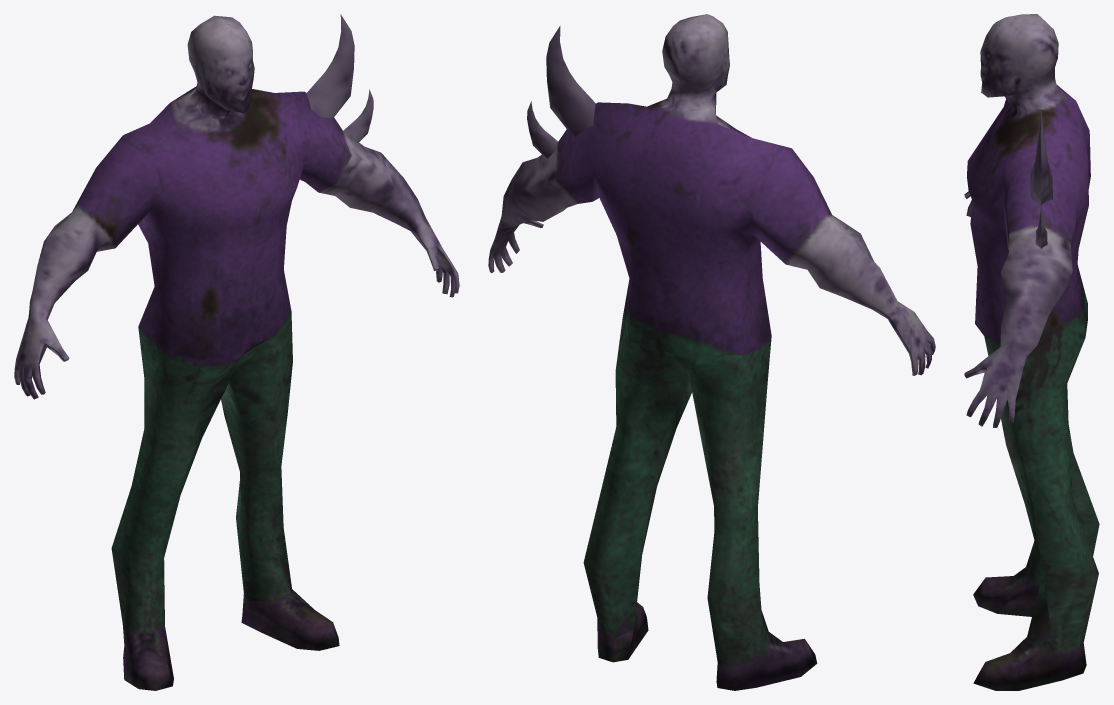
Rendered from zombie_boss.fbx.
3 views of the same model, side by side, from view 1: azimuth 30°, elevation 25°; view 2: azimuth 150°, elevation 25°; view 3: azimuth 270°, elevation 25° (orthographic).
Visible parts, largest first — view 1: zombie_boss; view 2: zombie_boss; view 3: zombie_boss.
Boxes of the visible parts, <box> form: zombie_boss: <box>14,14,459,690</box>; zombie_boss: <box>488,14,935,690</box>; zombie_boss: <box>964,14,1099,690</box>.
Size of the model in its own units: 172 by 242 by 47.14.
1 material, 1 textured.
